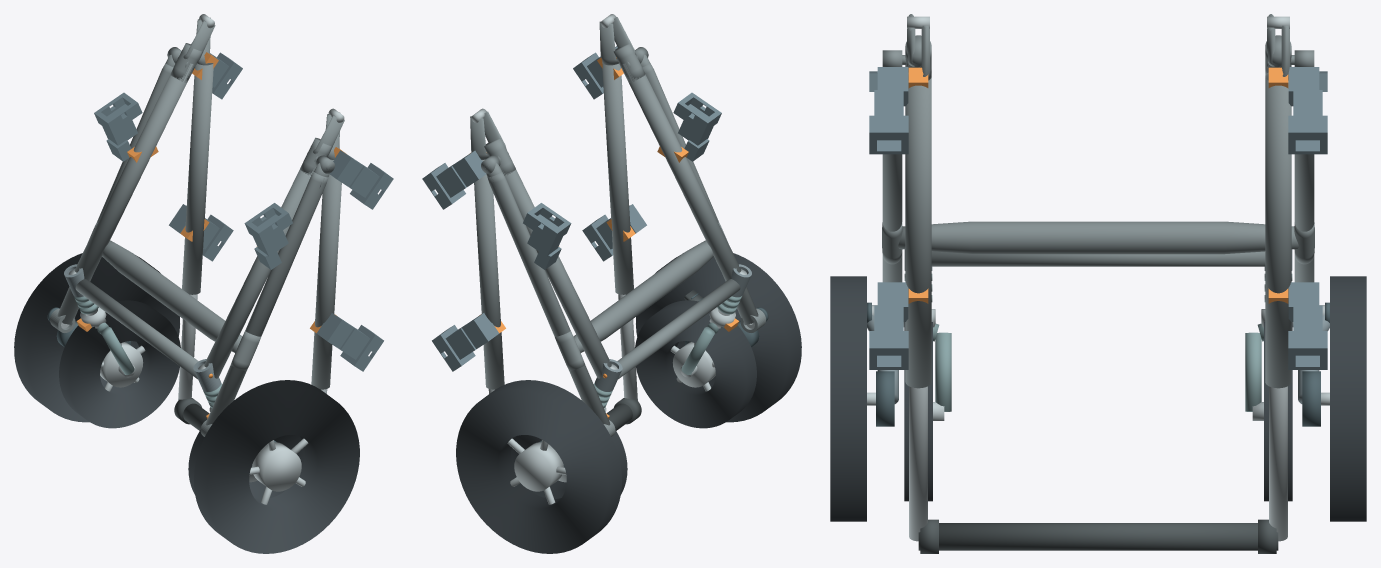
The model's file is w550_state3_wheel_M.glb.
The picture shows the model from 3 angles, left to right: view 1: azimuth 30°, elevation 25°; view 2: azimuth 150°, elevation 25°; view 3: azimuth 270°, elevation 25°; orthographic projection. The views are drawn at different scales.
Parts seen in each view (by area): view 1: RL_tire.004, FR_tire.004, RR_tire.004, main_upper_1.005, main_lower_1.005, V46_rear_leg_-1.005, main_upper_-1.005, V46_rearbar.005, main_lower_-1.005, front_fixed_round_tube.004, Universal_Cabin_Receiver_H_-1, Universal_Cabin_Receiver_M_-1 (+16 smaller); view 2: RR_tire.004, FL_tire.004, RL_tire.004, main_upper_-1.005, main_lower_-1.005, V46_rear_leg_1.005, main_upper_1.005, V46_rearbar.005, main_lower_1.005, front_fixed_round_tube.004, Universal_Cabin_Receiver_H_1, Universal_Cabin_Receiver_M_1 (+16 smaller); view 3: V46_rearbar.005, RL_tire.004, RR_tire.004, round_handle.004, main_upper_1.005, main_upper_-1.005, front_fixed_round_tube.004, Universal_Cabin_Receiver_M_-1, Universal_Cabin_Receiver_M_1, Universal_Cabin_Receiver_H_1, Universal_Cabin_Receiver_H_-1, handle_slider_1.004 (+11 smaller).
Boxes of the visible parts, box(x1,y1,x2,y2) form: RL_tire.004: box(194, 380, 359, 553); FR_tire.004: box(59, 300, 180, 428); RR_tire.004: box(14, 253, 179, 422); main_upper_1.005: box(182, 63, 213, 294); main_lower_1.005: box(74, 63, 193, 281); V46_rear_leg_-1.005: box(205, 172, 328, 425); main_upper_-1.005: box(311, 159, 341, 389); V46_rearbar.005: box(102, 240, 242, 352); main_lower_-1.005: box(204, 166, 316, 378); front_fixed_round_tube.004: box(75, 279, 198, 379); Universal_Cabin_Receiver_H_-1: box(316, 313, 383, 371); Universal_Cabin_Receiver_M_-1: box(329, 150, 393, 209); RR_tire.004: box(456, 380, 621, 553); FL_tire.004: box(635, 300, 756, 428); RL_tire.004: box(636, 253, 801, 422); main_upper_-1.005: box(602, 63, 633, 294); main_lower_-1.005: box(622, 63, 741, 281); V46_rear_leg_1.005: box(487, 172, 610, 425); main_upper_1.005: box(474, 159, 504, 389); V46_rearbar.005: box(573, 240, 713, 352); main_lower_1.005: box(499, 166, 611, 378); front_fixed_round_tube.004: box(617, 279, 740, 379); Universal_Cabin_Receiver_H_1: box(432, 313, 499, 371); Universal_Cabin_Receiver_M_1: box(422, 150, 486, 209); V46_rearbar.005: box(898, 221, 1298, 254); RL_tire.004: box(830, 276, 866, 521); RR_tire.004: box(1330, 276, 1366, 521); round_handle.004: box(918, 523, 1278, 550); main_upper_1.005: box(1265, 78, 1291, 388); main_upper_-1.005: box(905, 78, 931, 388); front_fixed_round_tube.004: box(931, 251, 1265, 266); Universal_Cabin_Receiver_M_-1: box(869, 67, 908, 154); Universal_Cabin_Receiver_M_1: box(1288, 67, 1327, 154); Universal_Cabin_Receiver_H_1: box(1288, 282, 1327, 369); Universal_Cabin_Receiver_H_-1: box(869, 282, 908, 369); handle_slider_1.004: box(1269, 386, 1287, 541).
Bounding box in the file's own units: 0.3941 × 0.7426 × 0.656.
